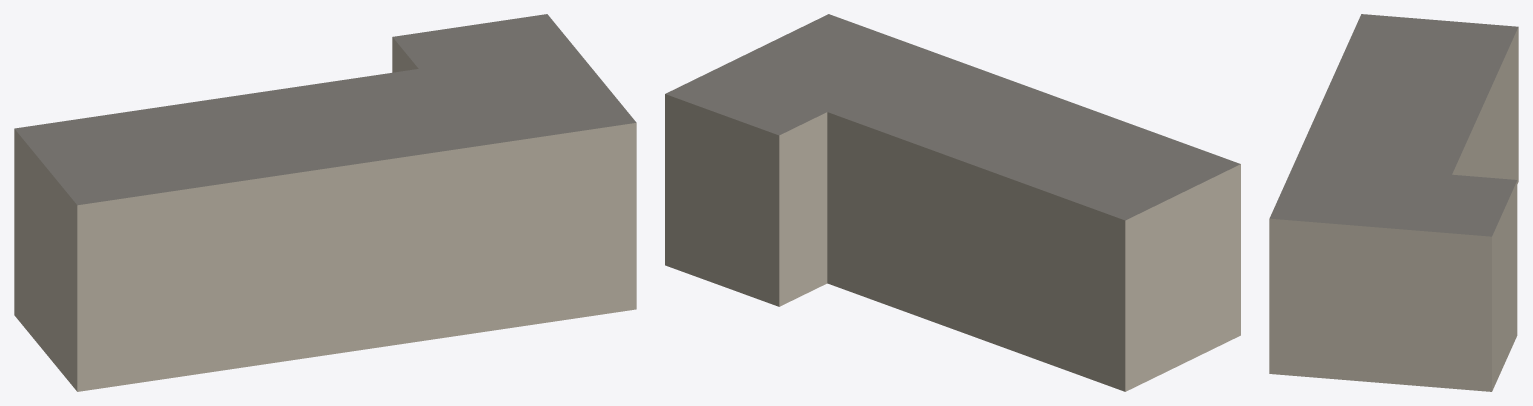
3 views of the same model, side by side, from view 1: azimuth 30°, elevation 25°; view 2: azimuth 150°, elevation 25°; view 3: azimuth 270°, elevation 25° (orthographic). The views are drawn at different scales.
Parts seen in each view (by area): view 1: HP-w859082574; view 2: HP-w859082574; view 3: HP-w859082574.
Boxes of the visible parts, <box> form: HP-w859082574: <box>14,14,636,391</box>; HP-w859082574: <box>665,14,1240,391</box>; HP-w859082574: <box>1269,14,1518,391</box>.
Size of the model in its own units: 55.35 by 18 by 26.17.
